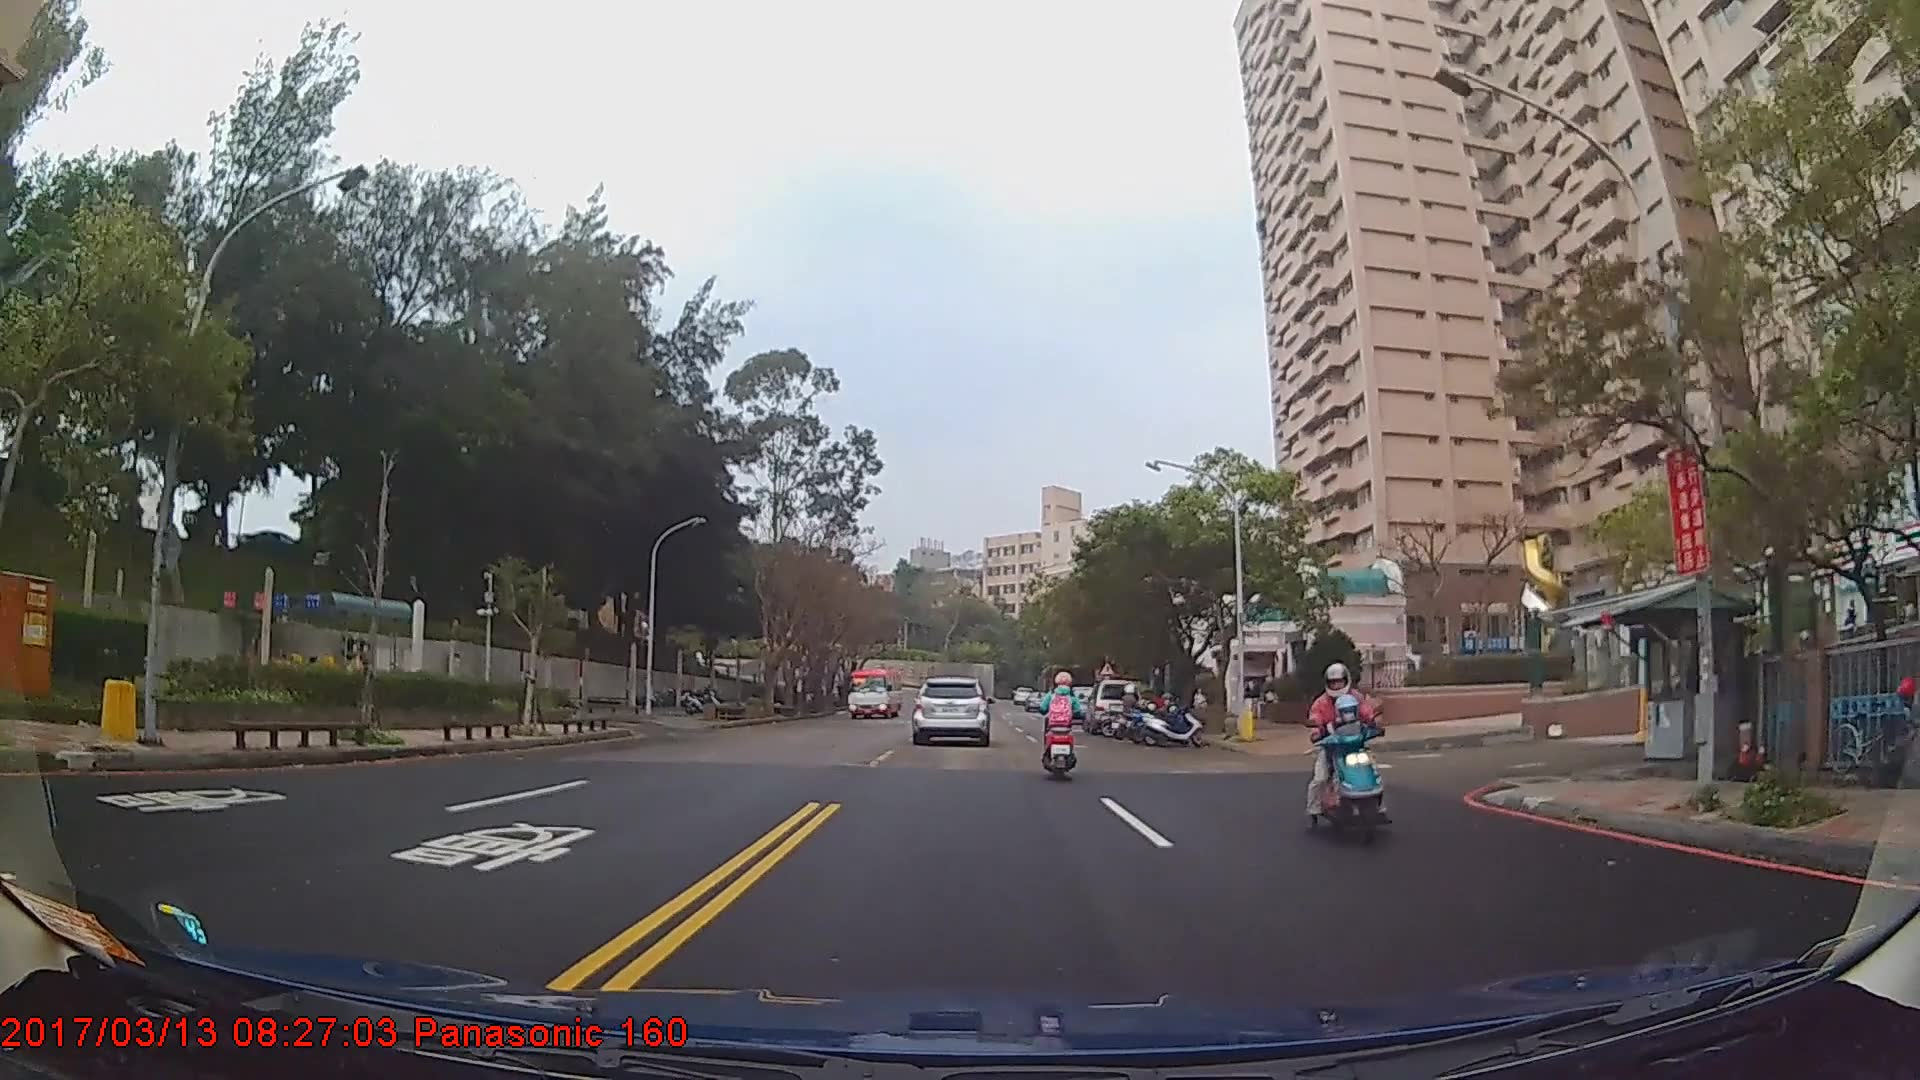rider: (1307, 663, 1390, 836), (1036, 666, 1081, 783), (1108, 684, 1146, 742)
vehicle: (912, 672, 990, 747), (1083, 679, 1143, 735), (843, 663, 901, 716)
